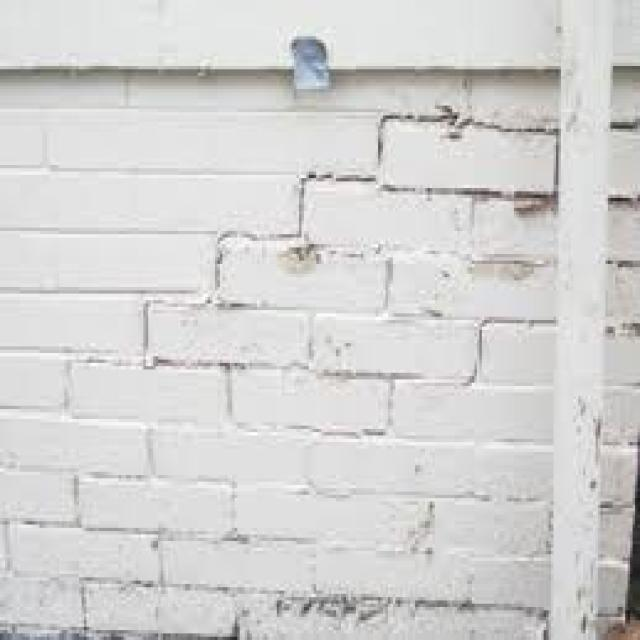Crack: (138, 105, 551, 363)
